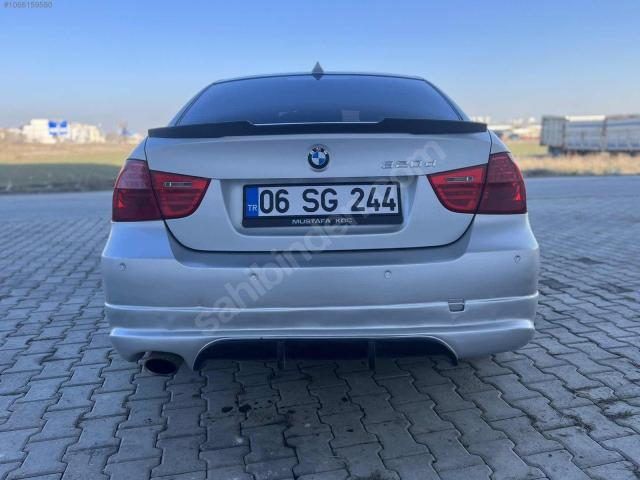plaka: (244, 184, 399, 224)
